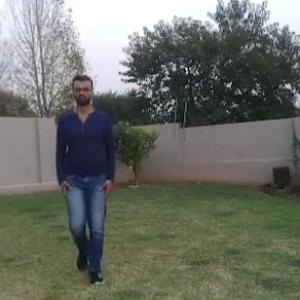follow: (60, 87, 115, 260)
